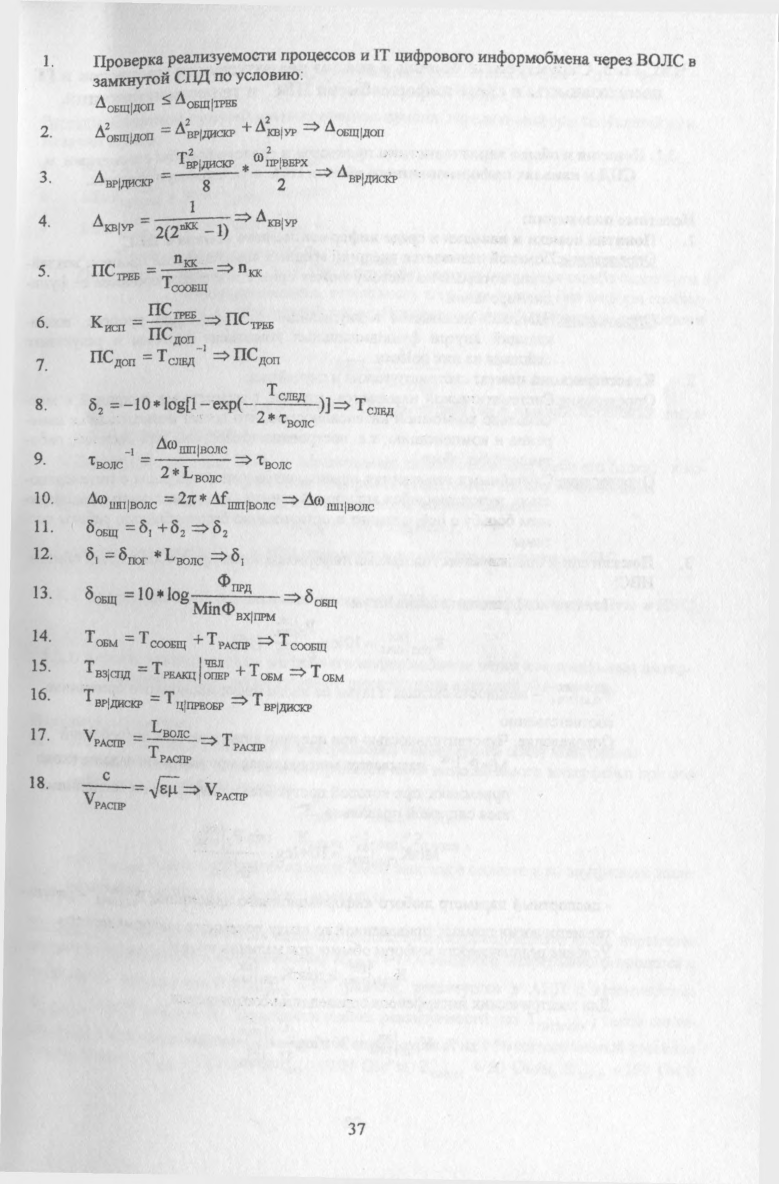K.исп: (86, 312, 130, 336)
L.волс: (181, 465, 229, 485), (162, 548, 203, 568)
L.лин: (149, 716, 192, 738)
T.вз.спд: (82, 661, 137, 681)
T.вр.дискр: (81, 688, 146, 713), (175, 153, 236, 171)
T.обм: (246, 660, 282, 685), (85, 626, 117, 648)
T.распр: (203, 628, 250, 652), (147, 743, 195, 764)
T.реак.чел.опер: (151, 658, 229, 679)
T.след: (262, 378, 308, 401), (158, 347, 196, 369)
T.сообщ: (136, 626, 186, 650), (161, 275, 214, 294)
T.ц.преобр: (160, 688, 226, 711)
V.распр: (79, 725, 127, 753), (78, 791, 128, 812)
n.кк: (169, 250, 201, 266), (179, 221, 201, 233)
Δ.вр.дискр: (90, 168, 157, 191), (175, 126, 237, 140)
Δ.кв.ур: (92, 209, 136, 235), (253, 120, 298, 140)
Δ.общ.доп: (94, 126, 156, 147)
Δf.шп.волс: (208, 492, 279, 514)
Δω.шп.волс: (81, 487, 159, 513), (150, 433, 231, 455)
δ.1: (78, 545, 103, 568), (131, 516, 154, 539)
δ.2: (85, 390, 105, 420), (166, 512, 187, 540)
δ.общ: (82, 516, 122, 538), (82, 583, 119, 605)
δ.пог: (116, 547, 151, 566)
ε: (158, 783, 167, 796)
μ: (167, 782, 181, 800)
τ.волс: (85, 450, 123, 474), (277, 411, 317, 430)
ω.пр.верх: (249, 150, 308, 168)
ПС.доп: (89, 346, 138, 371), (147, 324, 198, 346)
ПС.треб: (89, 258, 146, 285), (145, 297, 200, 320)
Ф.вх.прм: (222, 601, 275, 620)
Ф.прд: (213, 574, 254, 595)
